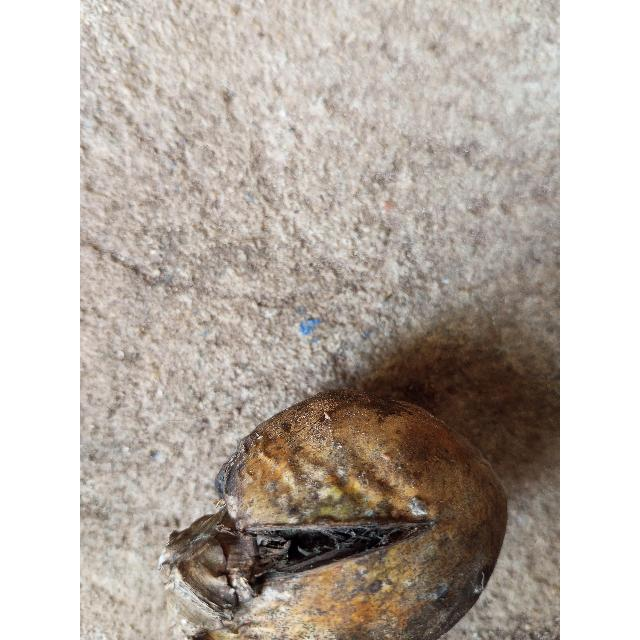damaged: (162, 379, 510, 640)
